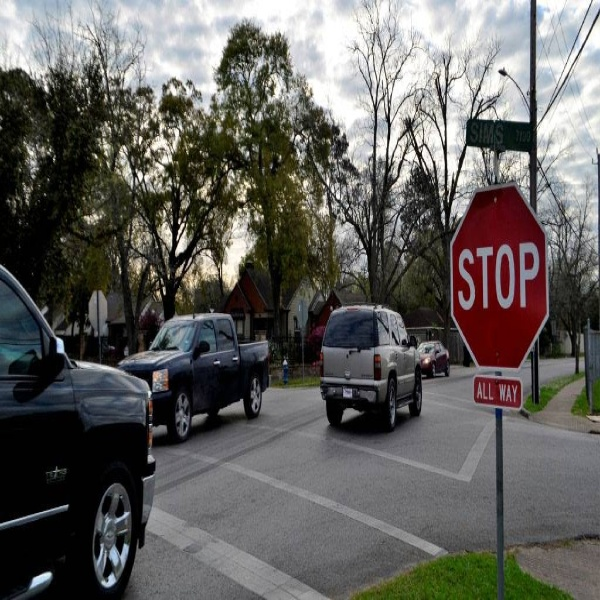stop: (447, 186, 548, 360)
